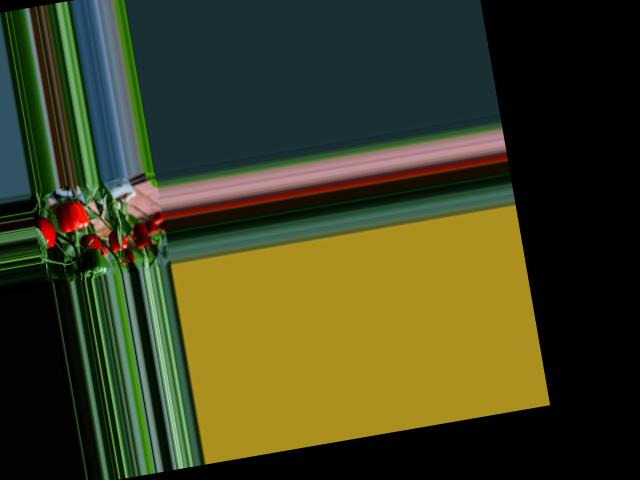bell_pepper: (106, 223, 131, 257)
